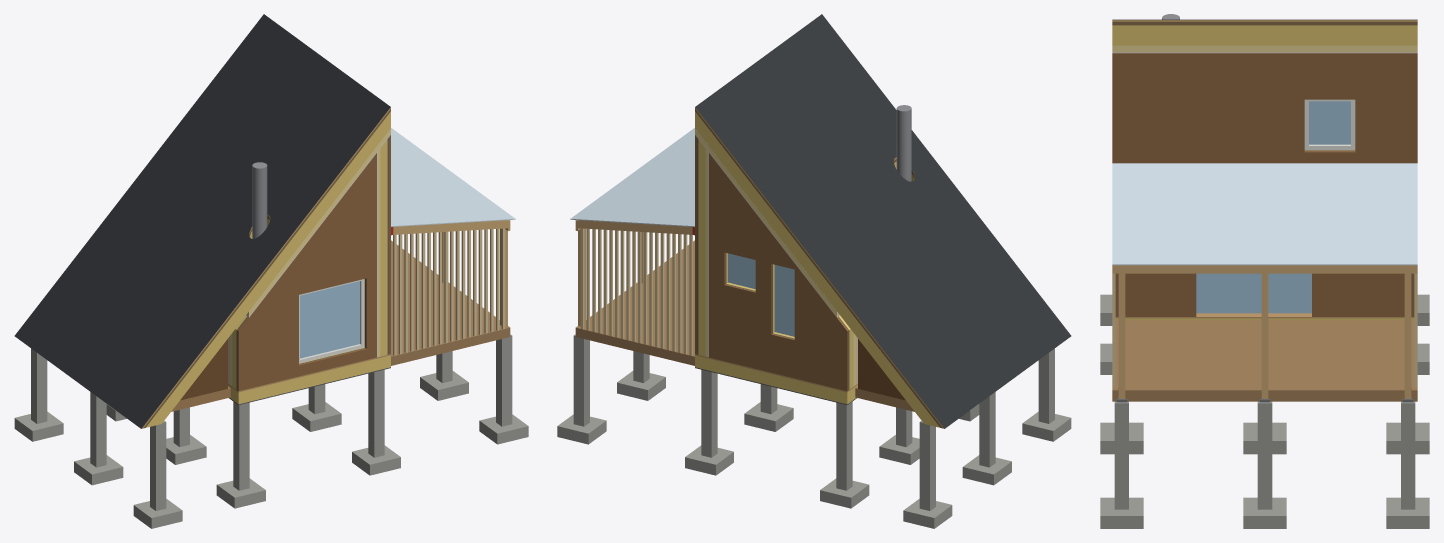
The picture shows the model from 3 angles, left to right: view 1: azimuth 30°, elevation 25°; view 2: azimuth 150°, elevation 25°; view 3: azimuth 270°, elevation 25°; orthographic projection. The views are drawn at different scales.
Visible parts, largest first — view 1: b15, b33, b56, b55, b18, b39, b61, b6, b5, b11, b7, b9 (+14 smaller); view 2: b15, b43, b56, b55, b18, b63, b10, b9, b13, b7, b5, b3 (+15 smaller); view 3: b22, b56, b55, b18, b28, b62, b61, b63, b57, b19, b29, b17 (+17 smaller).
Boxes of the visible parts, x1=… form: b15: x1=14, y1=14, x2=390, y2=428; b33: x1=238, y1=153, x2=376, y2=391; b56: x1=391, y1=128, x2=515, y2=226; b55: x1=391, y1=240, x2=510, y2=365; b18: x1=146, y1=111, x2=390, y2=427; b39: x1=300, y1=281, x2=359, y2=358; b61: x1=479, y1=334, x2=528, y2=444; b6: x1=216, y1=402, x2=265, y2=508; b5: x1=133, y1=421, x2=182, y2=528; b11: x1=352, y1=369, x2=400, y2=475; b7: x1=74, y1=392, x2=123, y2=485; b9: x1=14, y1=348, x2=63, y2=441; b15: x1=695, y1=14, x2=1071, y2=428; b43: x1=709, y1=153, x2=847, y2=391; b56: x1=570, y1=128, x2=694, y2=226; b55: x1=575, y1=240, x2=694, y2=365; b18: x1=695, y1=111, x2=939, y2=427; b63: x1=557, y1=334, x2=606, y2=444; b10: x1=820, y1=402, x2=869, y2=508; b9: x1=903, y1=421, x2=952, y2=528; b13: x1=685, y1=369, x2=733, y2=475; b7: x1=962, y1=392, x2=1011, y2=485; b5: x1=1022, y1=348, x2=1071, y2=441; b3: x1=695, y1=355, x2=857, y2=404; b22: x1=1112, y1=53, x2=1417, y2=316; b56: x1=1112, y1=163, x2=1417, y2=265; b55: x1=1112, y1=320, x2=1417, y2=401; b18: x1=1112, y1=25, x2=1417, y2=45; b28: x1=1196, y1=273, x2=1311, y2=313; b62: x1=1243, y1=401, x2=1286, y2=528; b61: x1=1100, y1=401, x2=1143, y2=528; b63: x1=1386, y1=401, x2=1429, y2=528; b57: x1=1112, y1=265, x2=1417, y2=273; b19: x1=1112, y1=45, x2=1417, y2=51; b29: x1=1309, y1=101, x2=1350, y2=144; b17: x1=1112, y1=22, x2=1417, y2=25.
Bounding box in the file's own units: 7353 × 6593 × 4564.
